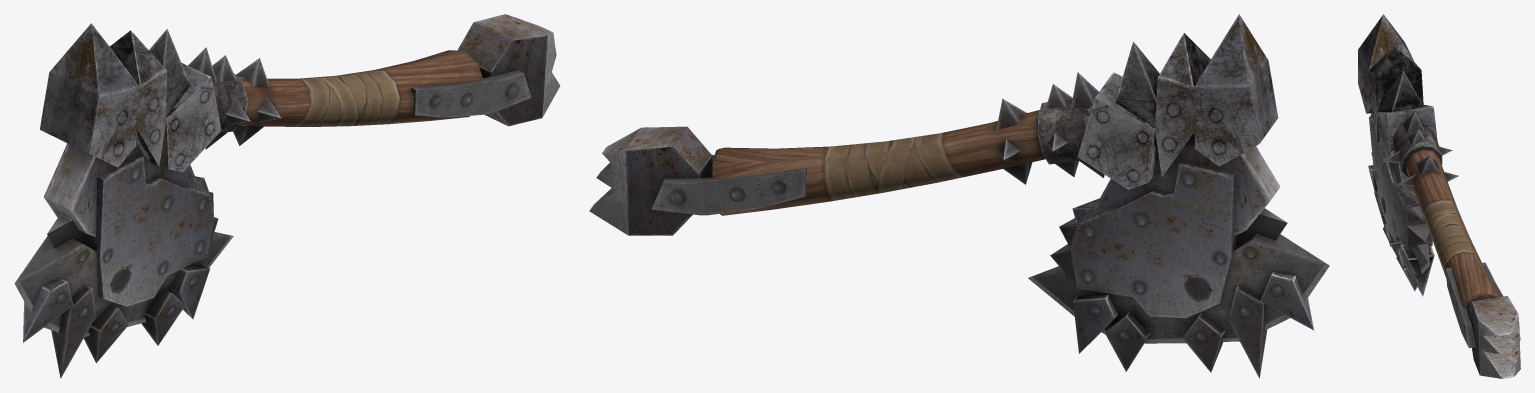
File: Axe.FBX
3 renders of one model, left to right at view 1: azimuth 30°, elevation 25°; view 2: azimuth 150°, elevation 25°; view 3: azimuth 270°, elevation 25°, orthographic. The views are drawn at different scales.
Parts seen in each view (by area): view 1: Axe; view 2: Axe; view 3: Axe.
Part boxes in pixels (<box>): Axe: <box>14,14,560,378</box>; Axe: <box>589,14,1329,378</box>; Axe: <box>1358,14,1520,378</box>.
Size of the model in its own units: 6.24 by 3.37 by 2.01.
1 material, 1 textured.
